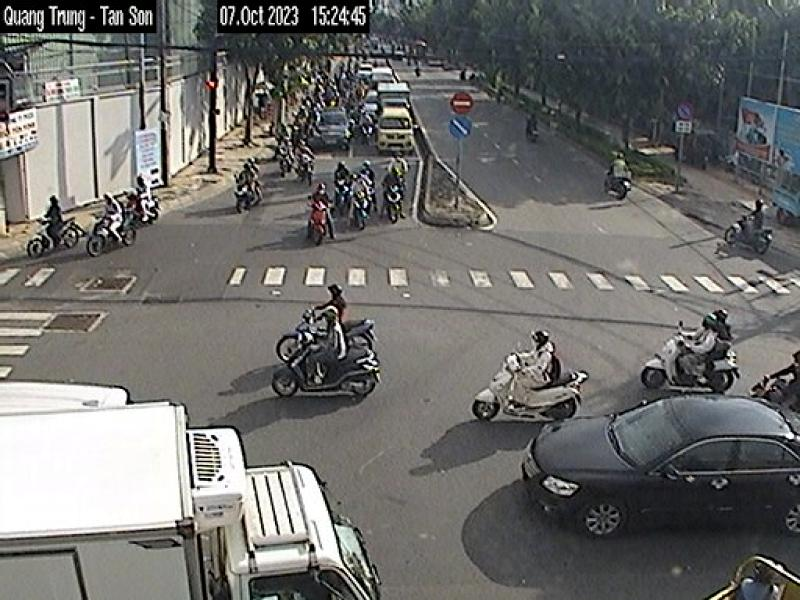car: (501, 391, 800, 545), (372, 110, 421, 164)
motorcycle: (234, 338, 413, 414), (469, 352, 591, 425), (616, 333, 752, 394), (249, 309, 388, 353)
truck: (0, 389, 418, 600)
